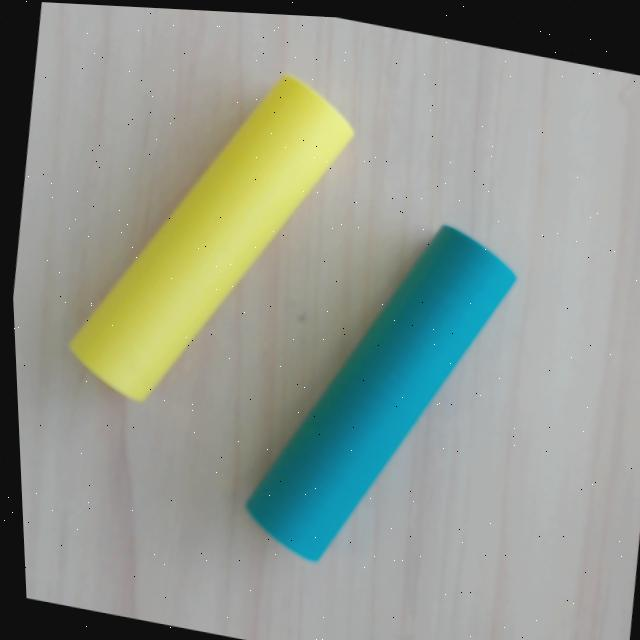Silinder-Hijau-10025: (239, 219, 521, 566)
Silinder-Kuning-10025: (64, 67, 360, 408)
